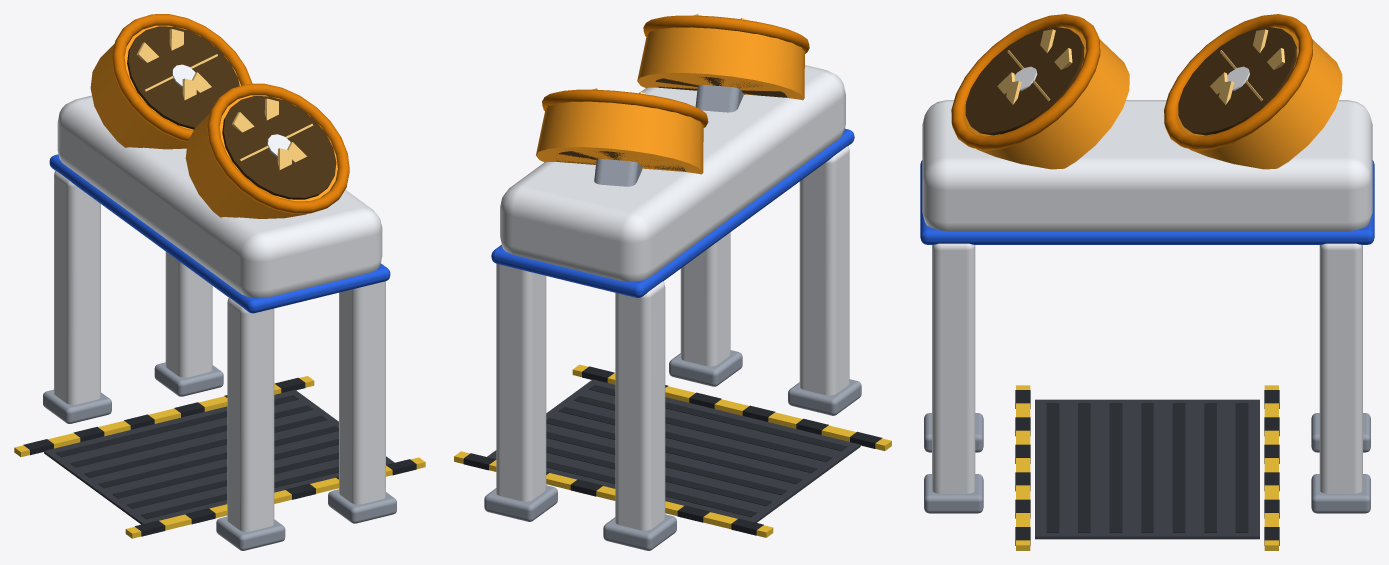
Rendered from machine_dryer.glb.
3 renders of one model, left to right at view 1: azimuth 30°, elevation 25°; view 2: azimuth 150°, elevation 25°; view 3: azimuth 270°, elevation 25°, orthographic. The views are drawn at different scales.
Parts seen in each view (by area): view 1: Machine_dryer, Floor, FanHolder1, FanHolder0, Fan1, Fan0; view 2: Machine_dryer, Floor, FanHolder0, FanHolder1; view 3: Machine_dryer, Floor, FanHolder1, FanHolder0, Fan1, Fan0.
Part boxes in pixels (x1,y1,x2,y2): Machine_dryer: [43, 95, 396, 550]; Floor: [14, 376, 425, 538]; FanHolder1: [185, 83, 349, 218]; FanHolder0: [90, 14, 252, 149]; Fan1: [232, 98, 313, 169]; Fan0: [136, 29, 217, 99]; Machine_dryer: [484, 65, 861, 550]; Floor: [454, 364, 891, 537]; FanHolder0: [536, 89, 708, 186]; FanHolder1: [637, 15, 809, 112]; Machine_dryer: [920, 100, 1374, 513]; Floor: [1015, 385, 1279, 550]; FanHolder1: [951, 14, 1129, 169]; FanHolder0: [1164, 14, 1342, 169]; Fan1: [997, 29, 1072, 104]; Fan0: [1210, 29, 1284, 104].
Bounding box in the file's own units: 4.2 × 5.4 × 5.04.
